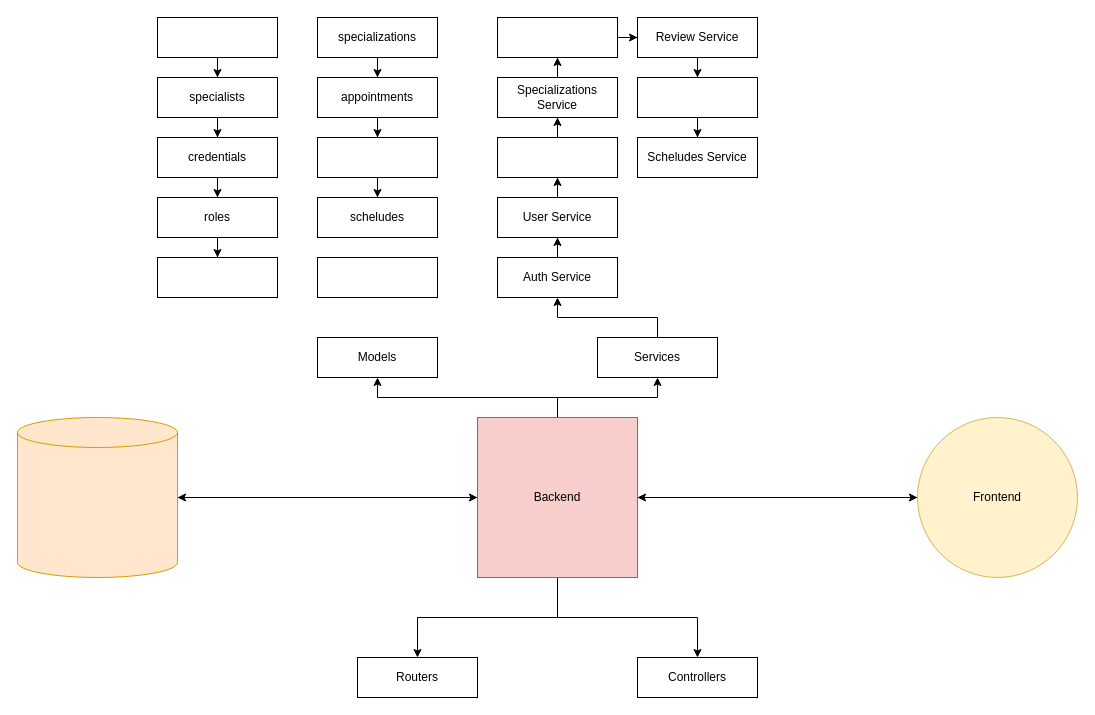
This 1095x715 diagram has some shape labels left out. The box of each missing label's shape, as (x1, y1, x2, y2) in pixels:
Appointments Service: (496, 16, 618, 58)
MongoDB: (16, 416, 178, 578)
payments: (156, 256, 278, 298)
reviews: (316, 136, 438, 178)
sessions: (316, 256, 438, 298)
Sessions Service: (636, 76, 758, 118)
Specialist Service: (496, 136, 618, 178)
users: (156, 16, 278, 58)
